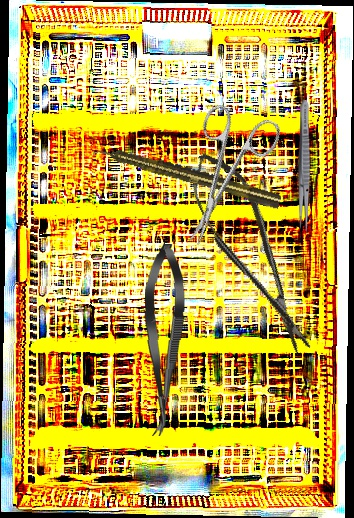Dressing Forceps: (298, 100, 311, 233)
Handpiece: (91, 140, 283, 211)
Iris Scissors: (156, 96, 285, 258)
Micro Scissor: (179, 142, 323, 365), (140, 242, 187, 438)
